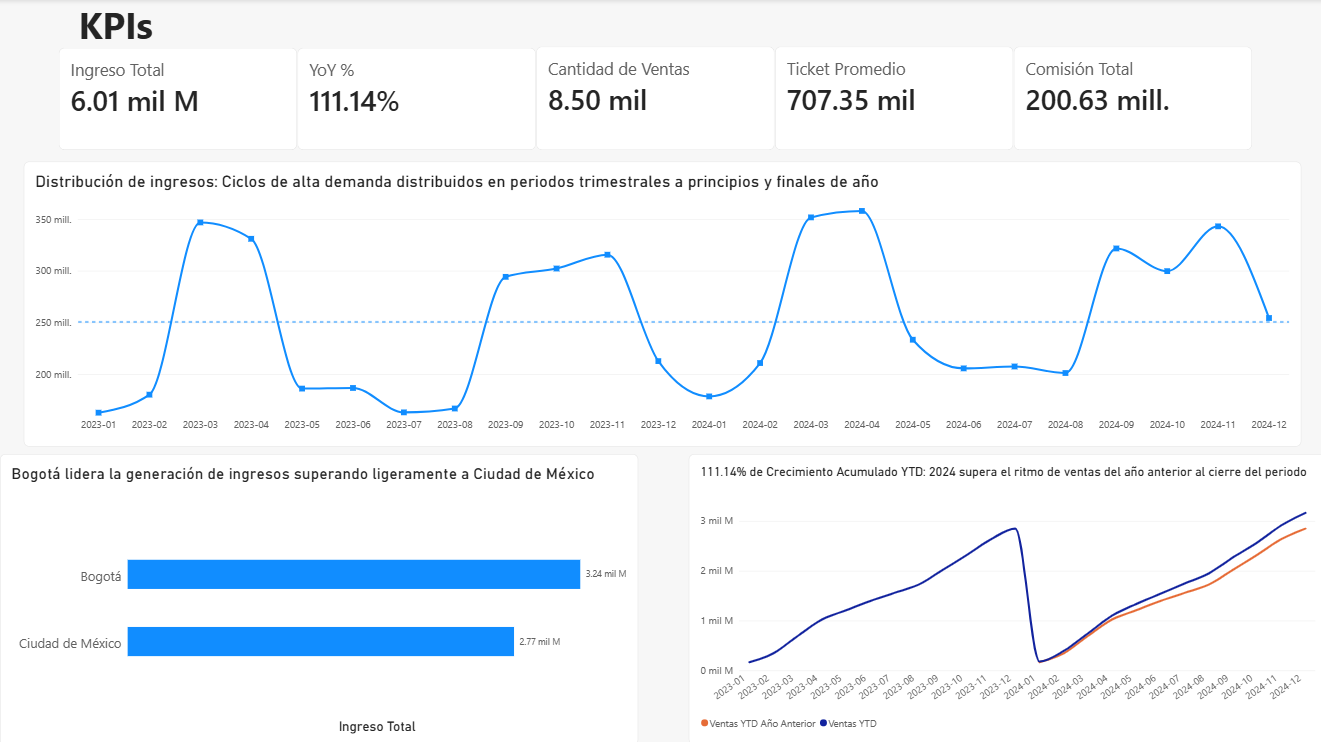

This screenshot's page, from the dashboard's own definition file:
{"tool":"powerbi","page":{"name":"Overview Ejecutivo","canvas":[1920,1080],"ordinal":0},"visuals":[{"type":"cardVisual","fields":{"Data":["_Medidas.Ingreso Total"]},"box":[85.1,70.6,345.6,148.4],"z":0},{"type":"cardVisual","fields":{"Data":["_Medidas.Ticket Promedio"]},"box":[1122,68.8,345.6,150.2],"z":1000},{"type":"cardVisual","fields":{"Data":["_Medidas.Cantidad de Ventas","_Medidas.Cantidad de Ventas"]},"box":[776.3,68.8,345.6,150.2],"z":2000},{"type":"cardVisual","fields":{"Data":["_Medidas.Comisión Total"]},"box":[1467.6,68.8,345.6,150.2],"z":3000},{"type":"cardVisual","fields":{"Data":["_Medidas.YoY %"]},"box":[430.7,70.6,345.6,148.4],"z":4000},{"type":"lineChart","title":"Distribución de ingresos: Ciclos de alta demanda distribuidos en periodos trimestrales a principios y finales de año","fields":{"Y":["_Medidas.Ingreso Total"],"Category":["dim_fecha.Año-Mes"]},"box":[34.4,235.3,1849.5,412.6],"z":5000},{"type":"clusteredBarChart","title":"Bogotá lidera la generación de ingresos superando ligeramente a Ciudad de México","fields":{"Category":["dim_clientes.ciudad"],"Y":["_Medidas.Ingreso Total"]},"box":[0,658.7,924.2,422],"z":6000},{"type":"lineChart","title":"111.14% de Crecimiento Acumulado YTD: 2024 supera el ritmo de ventas del año anterior al cierre del periodo","fields":{"Category":["dim_fecha.Año-Mes"],"Y":["_Medidas.Ventas YTD Año Anterior","_Medidas.Ventas YTD"]},"box":[996.2,658.7,924,421],"z":7000},{"type":"textbox","box":[34.4,0,266,76],"z":8000}]}

Visuals, with their boxes in screenshot pixels (x1, y1, x2, y2), scaled from the page's 1920x1080 canvas onto the 1321x742 screenshot:
cardVisual - _Medidas.Ingreso Total: (left=59, top=49, right=296, bottom=150)
cardVisual - _Medidas.Ticket Promedio: (left=772, top=47, right=1010, bottom=150)
cardVisual - _Medidas.Cantidad de Ventas x _Medidas.Cantidad de Ventas: (left=534, top=47, right=772, bottom=150)
cardVisual - _Medidas.Comisión Total: (left=1010, top=47, right=1248, bottom=150)
cardVisual - _Medidas.YoY %: (left=296, top=49, right=534, bottom=150)
"Distribución de ingresos: Ciclos de alta demanda distribuidos en periodos trimestrales a principios y finales de año" lineChart: (left=24, top=162, right=1296, bottom=445)
"Bogotá lidera la generación de ingresos superando ligeramente a Ciudad de México" clusteredBarChart: (left=0, top=453, right=636, bottom=741)
"111.14% de Crecimiento Acumulado YTD: 2024 supera el ritmo de ventas del año anterior al cierre del periodo" lineChart: (left=685, top=453, right=1320, bottom=741)
textbox: (left=24, top=0, right=207, bottom=52)
